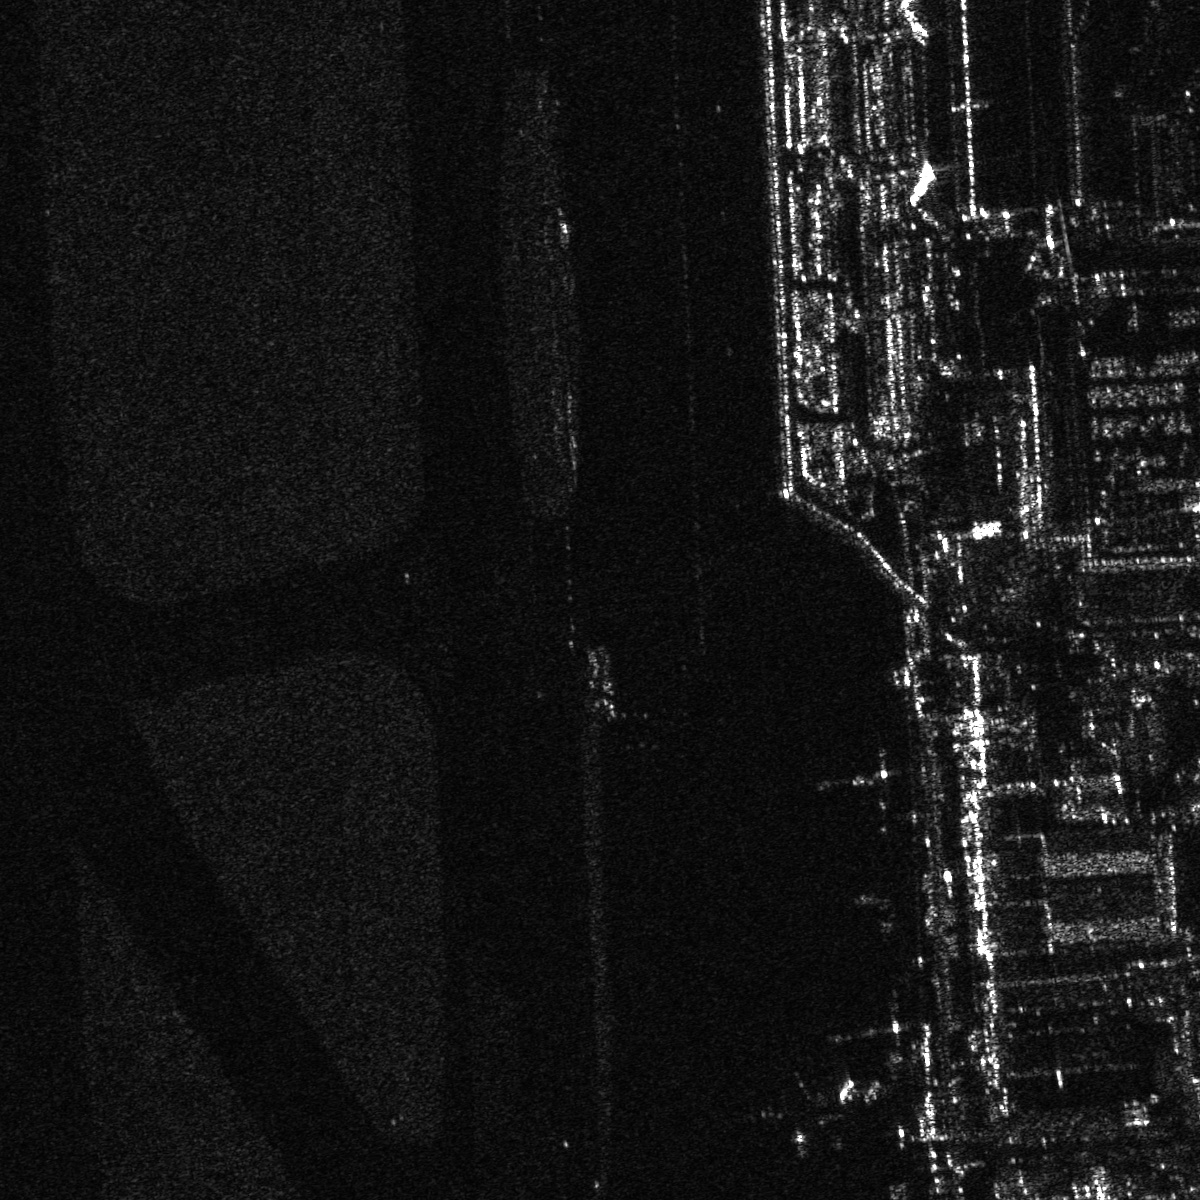A320/321: (829, 991, 918, 1058)
other: (811, 734, 913, 831), (749, 1073, 849, 1154)
